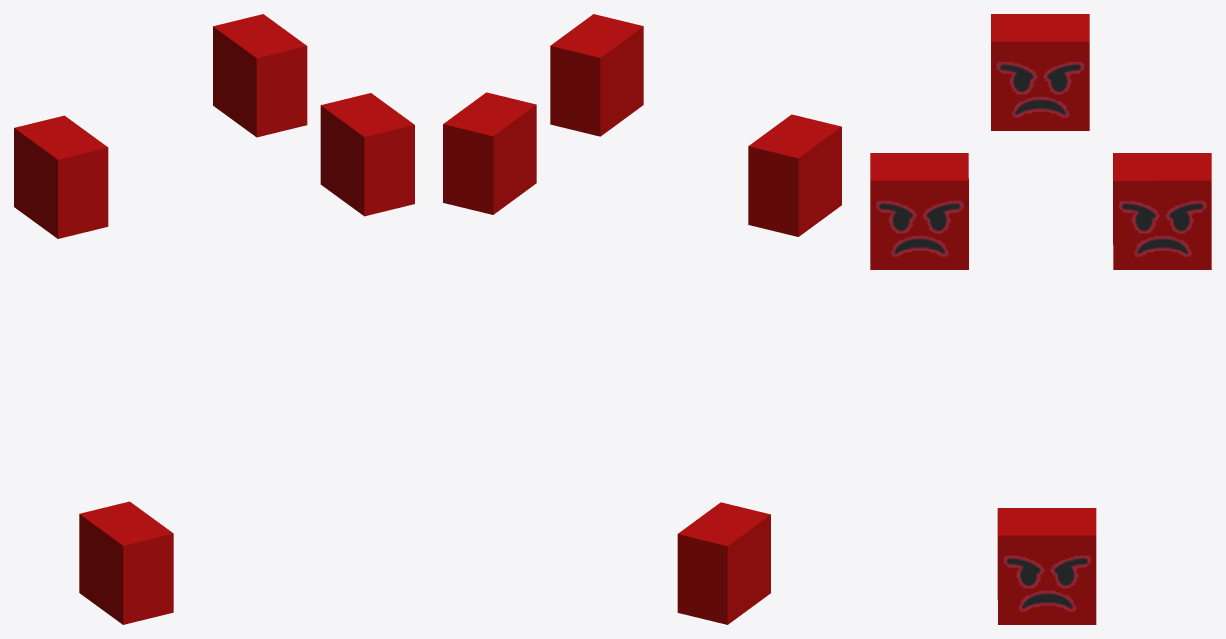
The model's file is Enemies.fbx.
The picture shows the model from 3 angles, left to right: view 1: azimuth 30°, elevation 25°; view 2: azimuth 150°, elevation 25°; view 3: azimuth 270°, elevation 25°; orthographic projection. The views are drawn at different scales.
Visible parts, largest first — view 1: Enemy2, Enemy3, Enemy4, Enemy1; view 2: Enemy2, Enemy1, Enemy4, Enemy3; view 3: Enemy4, Enemy1, Enemy2, Enemy3.
Boxes of the visible parts, box(x1,y1,x2,y2) form: Enemy2: box(213, 14, 307, 137); Enemy3: box(320, 93, 414, 216); Enemy4: box(79, 501, 173, 624); Enemy1: box(14, 115, 108, 238); Enemy2: box(443, 92, 536, 214); Enemy1: box(748, 114, 841, 236); Enemy4: box(677, 502, 770, 624); Enemy3: box(550, 14, 643, 136); Enemy4: box(997, 508, 1096, 624); Enemy1: box(991, 14, 1089, 130); Enemy2: box(1113, 153, 1211, 269); Enemy3: box(870, 153, 968, 269).
Size of what is drawn, in the model's own units: 18.05 by 27.5 by 15.6.
